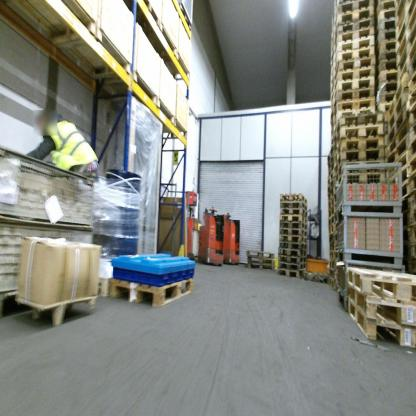pallet: (18, 287, 100, 340), (347, 297, 413, 349), (110, 271, 198, 309), (347, 283, 415, 326), (346, 264, 414, 300), (333, 110, 384, 146), (334, 125, 383, 157), (334, 148, 381, 179), (333, 8, 374, 40), (333, 138, 380, 165), (128, 1, 162, 33), (396, 8, 415, 65), (334, 161, 383, 182), (335, 18, 373, 45), (396, 1, 416, 52), (397, 21, 415, 77), (396, 39, 416, 86), (388, 77, 408, 121), (388, 89, 408, 133), (386, 121, 409, 158), (335, 37, 375, 57), (335, 55, 375, 75), (387, 107, 407, 145), (385, 140, 408, 173), (333, 96, 376, 113), (334, 1, 372, 20), (174, 0, 193, 33), (334, 77, 375, 92), (388, 152, 409, 181), (396, 1, 412, 39), (401, 56, 415, 94), (336, 87, 376, 100), (338, 27, 374, 41), (99, 274, 116, 300), (375, 18, 395, 37), (376, 50, 397, 68), (337, 71, 374, 81), (378, 70, 398, 88), (375, 8, 395, 26), (336, 50, 376, 59), (281, 191, 307, 204), (279, 207, 307, 219), (277, 258, 305, 270), (304, 270, 329, 283), (377, 40, 396, 57), (278, 247, 306, 258), (274, 268, 305, 277), (280, 201, 307, 211), (280, 221, 307, 231), (279, 233, 306, 243), (378, 61, 396, 75), (247, 256, 274, 265), (280, 216, 307, 225), (279, 255, 306, 264), (377, 1, 395, 14), (379, 29, 395, 43), (380, 82, 400, 93), (247, 248, 274, 256), (280, 228, 307, 236), (279, 242, 306, 250), (407, 75, 416, 99), (408, 87, 416, 112), (247, 263, 275, 270), (381, 102, 400, 112), (333, 176, 344, 192), (408, 108, 416, 130), (400, 167, 409, 185), (409, 138, 416, 161), (378, 94, 399, 101), (410, 122, 416, 145), (404, 229, 412, 246), (327, 145, 334, 164), (329, 251, 339, 264), (402, 181, 408, 202), (403, 211, 411, 226), (407, 245, 415, 260), (408, 175, 415, 192), (409, 191, 416, 207), (409, 157, 415, 175), (404, 197, 411, 212), (327, 187, 335, 200), (409, 207, 415, 224), (328, 170, 335, 184), (329, 231, 337, 243), (329, 214, 337, 226), (330, 223, 337, 236), (329, 261, 339, 270), (328, 154, 334, 169), (411, 224, 415, 244), (329, 241, 337, 251), (328, 163, 334, 176), (396, 1, 401, 15), (328, 179, 333, 193), (329, 198, 335, 209), (330, 270, 336, 280), (329, 279, 336, 287), (329, 206, 334, 217)
pallet_truck: (201, 197, 226, 270), (225, 210, 245, 269)
stillage: (2, 144, 98, 324), (334, 160, 405, 221), (337, 212, 405, 263), (334, 263, 349, 309)
